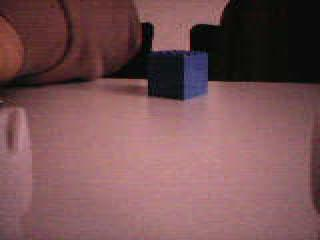legocube: (147, 48, 210, 102)
